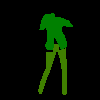camicia: (39, 13, 73, 50)
jeans: (38, 44, 67, 95)
